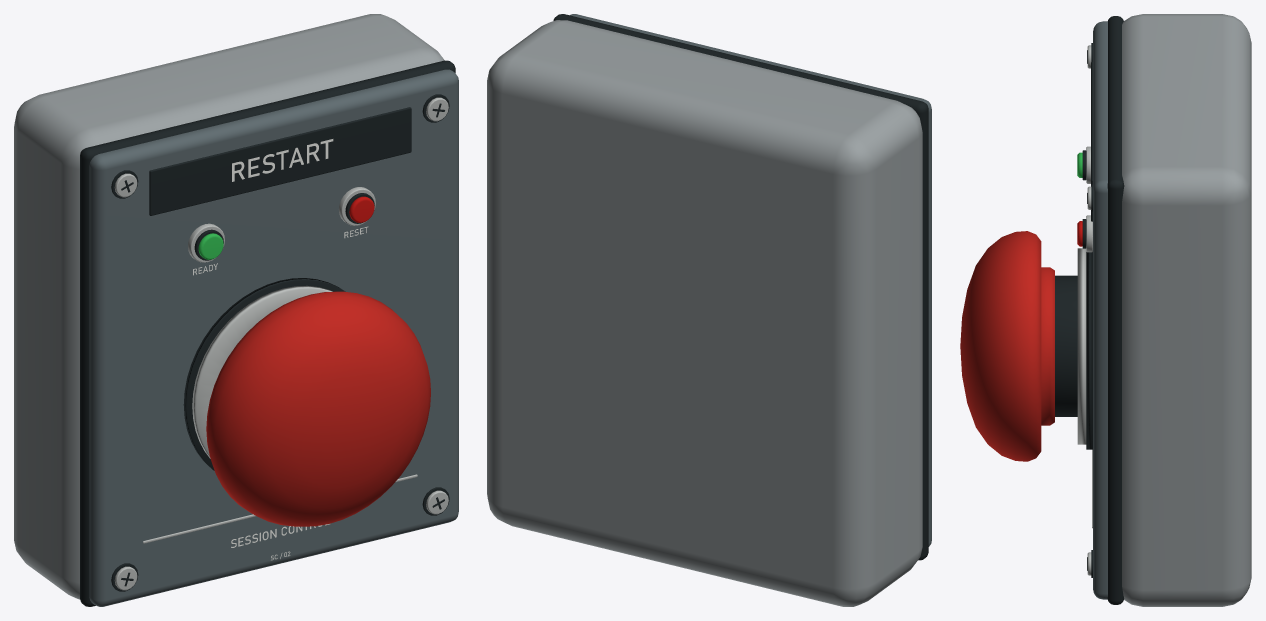
The model's file is IndustrialRestartButton.glb.
3 renders of one model, left to right at view 1: azimuth 30°, elevation 25°; view 2: azimuth 150°, elevation 25°; view 3: azimuth 270°, elevation 25°, orthographic. The views are drawn at different scales.
Parts seen in each view (by area): view 1: Static_Control_PowdercoatFace, Static_Control_SatinCastAluminum, ButtonCap, Static_Control_GraphiteGasket, Static_Control_SatinHardware, Static_Control_IvoryEtching; view 2: Static_Control_SatinCastAluminum, Static_Control_GraphiteGasket, Static_Control_PowdercoatFace; view 3: Static_Control_SatinCastAluminum, ButtonCap, Static_Control_GraphiteGasket, Static_Control_PowdercoatFace, Static_Control_SatinHardware.
Boxes of the visible parts, box(x1,y1,x2,y2) form: Static_Control_PowdercoatFace: box(89, 69, 458, 606); Static_Control_SatinCastAluminum: box(14, 14, 444, 599); ButtonCap: box(206, 291, 430, 526); Static_Control_GraphiteGasket: box(80, 60, 455, 606); Static_Control_SatinHardware: box(114, 97, 448, 590); Static_Control_IvoryEtching: box(193, 139, 368, 560); Static_Control_SatinCastAluminum: box(487, 20, 922, 606); Static_Control_GraphiteGasket: box(553, 14, 928, 560); Static_Control_PowdercoatFace: box(570, 14, 931, 546); Static_Control_SatinCastAluminum: box(1122, 14, 1251, 606); ButtonCap: box(960, 231, 1054, 461); Static_Control_GraphiteGasket: box(1055, 16, 1124, 604); Static_Control_PowdercoatFace: box(1093, 21, 1107, 599); Static_Control_SatinHardware: box(1077, 45, 1092, 575).
Bounding box in the file's own units: 0.24 × 0.28 × 0.169.
